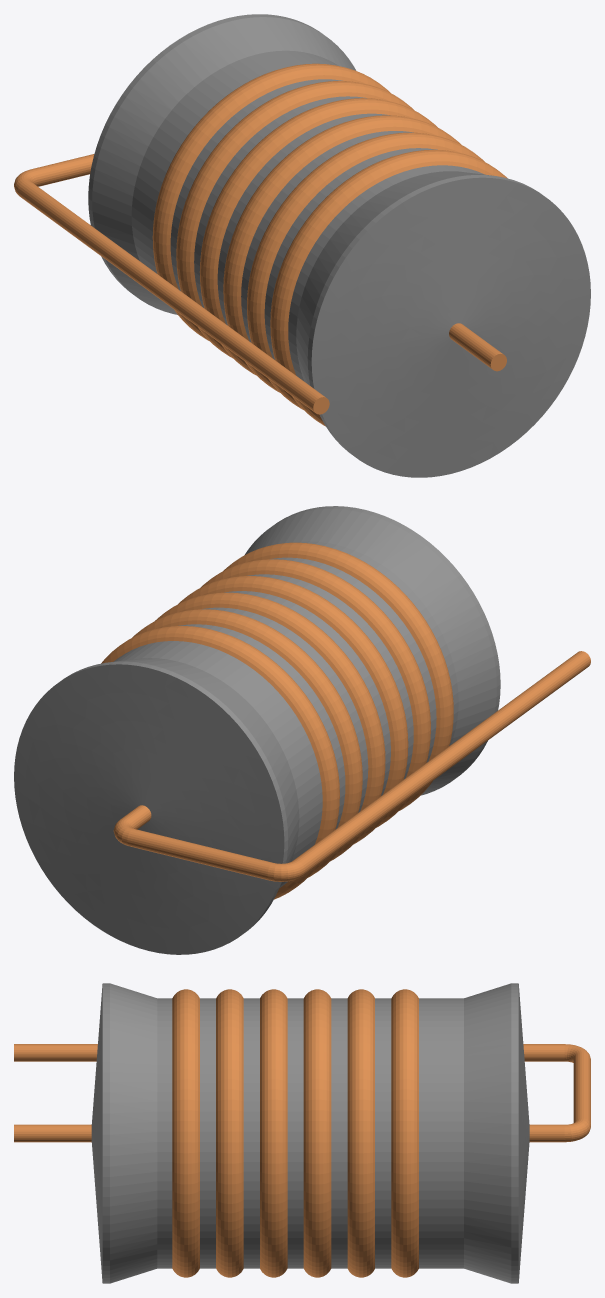
The model's file is L_Axial_L17.5mm_D12.0mm_P7.62mm_Vertical_Vishay_IM-10-46.glb.
3 renders of one model, top to bottom at view 1: azimuth 30°, elevation 25°; view 2: azimuth 150°, elevation 25°; view 3: azimuth 270°, elevation 25°, orthographic. The views are drawn at different scales.
Visible parts, largest first — view 1: Shape_IndexedFaceSet.002, Shape_IndexedFaceSet.018, Shape_IndexedFaceSet.017, Shape_IndexedFaceSet.025, Shape_IndexedFaceSet.006, Shape_IndexedFaceSet.010, Shape_IndexedFaceSet.014, Shape_IndexedFaceSet.016, Shape_IndexedFaceSet.008, Shape_IndexedFaceSet.012, Shape_IndexedFaceSet.004, Shape_IndexedFaceSet.005 (+9 smaller); view 2: Shape_IndexedFaceSet.020, Shape_IndexedFaceSet.004, Shape_IndexedFaceSet.017, Shape_IndexedFaceSet.016, Shape_IndexedFaceSet.025, Shape_IndexedFaceSet.006, Shape_IndexedFaceSet.008, Shape_IndexedFaceSet.014, Shape_IndexedFaceSet.012, Shape_IndexedFaceSet.010, Shape_IndexedFaceSet.018, Shape_IndexedFaceSet.023 (+9 smaller); view 3: Shape_IndexedFaceSet.018, Shape_IndexedFaceSet.004, Shape_IndexedFaceSet.017, Shape_IndexedFaceSet.012, Shape_IndexedFaceSet.008, Shape_IndexedFaceSet.014, Shape_IndexedFaceSet.006, Shape_IndexedFaceSet.010, Shape_IndexedFaceSet.016, Shape_IndexedFaceSet.009, Shape_IndexedFaceSet.011, Shape_IndexedFaceSet.013 (+12 smaller).
Boxes of the visible parts, left/top/right/bottom form: Shape_IndexedFaceSet.002: left=311, top=177, right=590, bottom=477; Shape_IndexedFaceSet.018: left=92, top=17, right=356, bottom=314; Shape_IndexedFaceSet.017: left=131, top=50, right=338, bottom=273; Shape_IndexedFaceSet.025: left=17, top=180, right=325, bottom=412; Shape_IndexedFaceSet.006: left=270, top=149, right=507, bottom=426; Shape_IndexedFaceSet.010: left=223, top=115, right=461, bottom=392; Shape_IndexedFaceSet.014: left=176, top=81, right=413, bottom=358; Shape_IndexedFaceSet.016: left=152, top=63, right=390, bottom=340; Shape_IndexedFaceSet.008: left=247, top=132, right=484, bottom=409; Shape_IndexedFaceSet.012: left=199, top=98, right=437, bottom=375; Shape_IndexedFaceSet.004: left=296, top=171, right=491, bottom=385; Shape_IndexedFaceSet.005: left=288, top=165, right=484, bottom=381; Shape_IndexedFaceSet.020: left=14, top=664, right=284, bottom=954; Shape_IndexedFaceSet.004: left=244, top=509, right=496, bottom=795; Shape_IndexedFaceSet.017: left=113, top=641, right=322, bottom=887; Shape_IndexedFaceSet.016: left=101, top=626, right=339, bottom=899; Shape_IndexedFaceSet.025: left=293, top=651, right=590, bottom=875; Shape_IndexedFaceSet.006: left=223, top=542, right=453, bottom=810; Shape_IndexedFaceSet.008: left=200, top=559, right=430, bottom=827; Shape_IndexedFaceSet.014: left=132, top=609, right=362, bottom=877; Shape_IndexedFaceSet.012: left=155, top=592, right=385, bottom=860; Shape_IndexedFaceSet.010: left=178, top=576, right=408, bottom=844; Shape_IndexedFaceSet.018: left=111, top=658, right=299, bottom=887; Shape_IndexedFaceSet.023: left=127, top=829, right=272, bottom=880; Shape_IndexedFaceSet.018: left=464, top=983, right=511, bottom=1283; Shape_IndexedFaceSet.004: left=110, top=983, right=157, bottom=1283; Shape_IndexedFaceSet.017: left=419, top=998, right=463, bottom=1268; Shape_IndexedFaceSet.012: left=303, top=989, right=331, bottom=1277; Shape_IndexedFaceSet.008: left=216, top=989, right=243, bottom=1277; Shape_IndexedFaceSet.014: left=347, top=989, right=374, bottom=1277; Shape_IndexedFaceSet.006: left=172, top=989, right=199, bottom=1277; Shape_IndexedFaceSet.010: left=260, top=989, right=287, bottom=1277; Shape_IndexedFaceSet.016: left=391, top=989, right=418, bottom=1277; Shape_IndexedFaceSet.009: left=243, top=998, right=259, bottom=1268; Shape_IndexedFaceSet.011: left=287, top=998, right=303, bottom=1268; Shape_IndexedFaceSet.013: left=331, top=998, right=347, bottom=1268.
Bounding box in the file's own units: 5.5 × 4.72 × 9.07.
